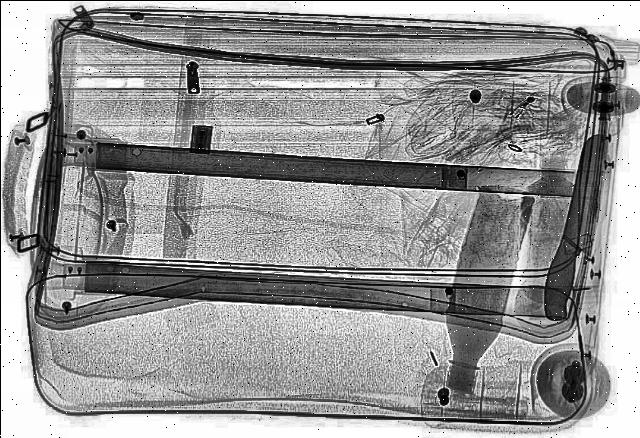Knife: (537, 135, 619, 323)
